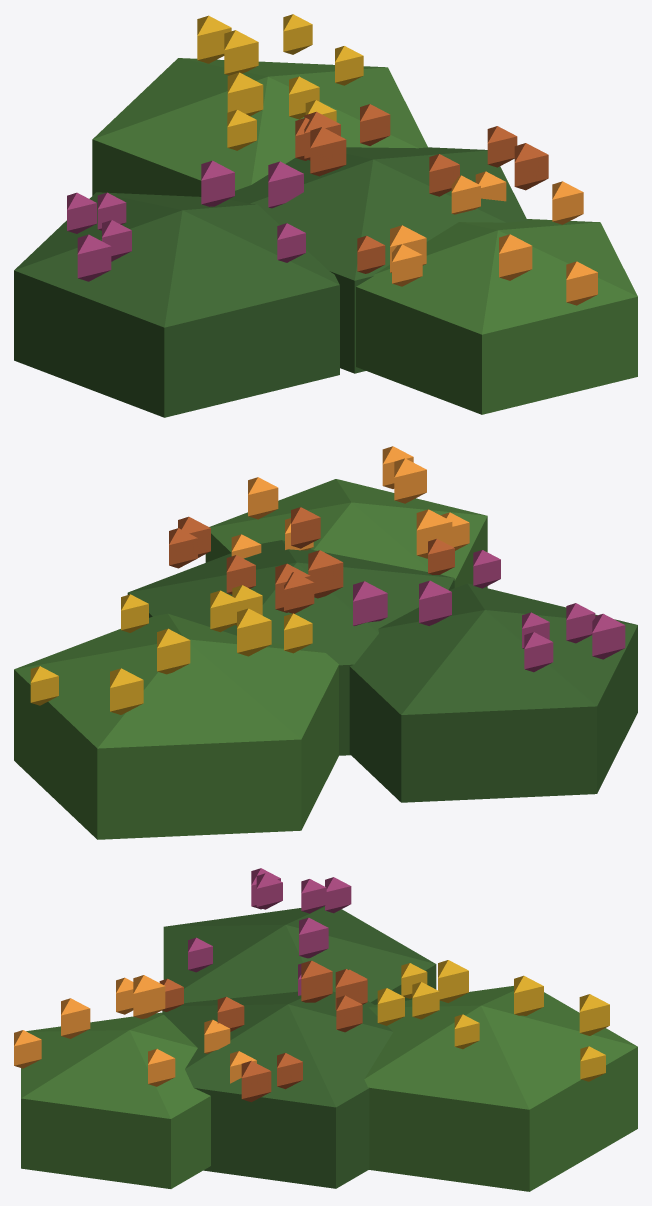
File: flower_patch_autumn.glb
3 views of the same model, one above another, from view 1: azimuth 30°, elevation 25°; view 2: azimuth 150°, elevation 25°; view 3: azimuth 270°, elevation 25° (orthographic). The views are drawn at different scales.
Parts seen in each view (by area): view 1: flower_patch_autumn; view 2: flower_patch_autumn; view 3: flower_patch_autumn.
Part boxes in pixels (x1,y1,x2,y2): flower_patch_autumn: (14, 14, 637, 417); flower_patch_autumn: (14, 446, 637, 839); flower_patch_autumn: (14, 868, 637, 1191).
Size of the model in its own units: 2.18 by 0.921 by 2.72.
